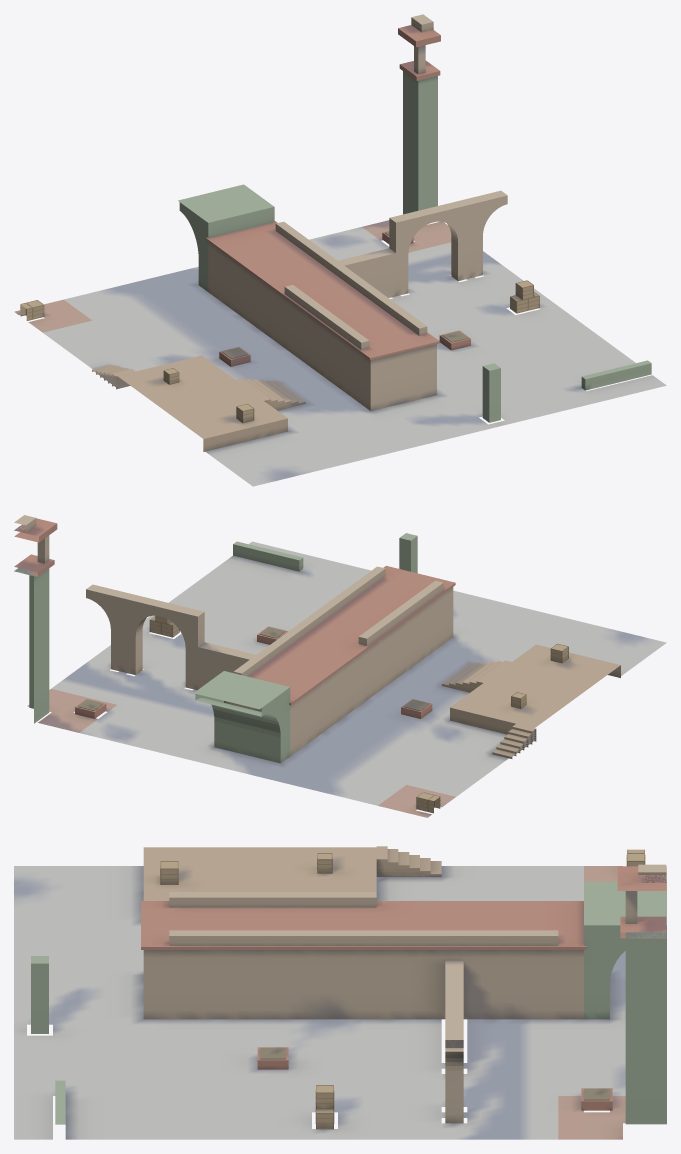
3 renders of one model, top to bottom at view 1: azimuth 30°, elevation 25°; view 2: azimuth 150°, elevation 25°; view 3: azimuth 270°, elevation 25°, orthographic. The views are drawn at different scales.
Visible parts, largest first — view 1: t; view 2: t; view 3: t.
Boxes of the visible parts, x1,y1,x2,y2 form: t: (14,14,666,486); t: (14,515,666,817); t: (14,846,666,1139).
Size of the model in its own units: 50.4 by 22.6 by 50.4.
